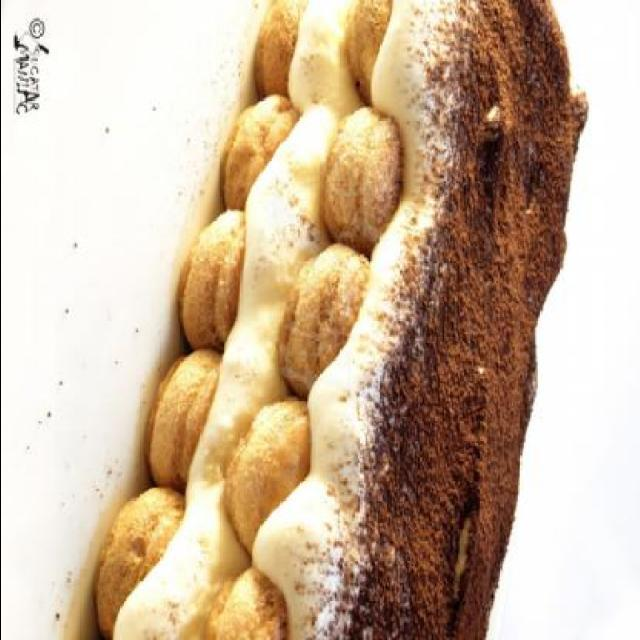Tiramisu: (73, 20, 584, 638)
